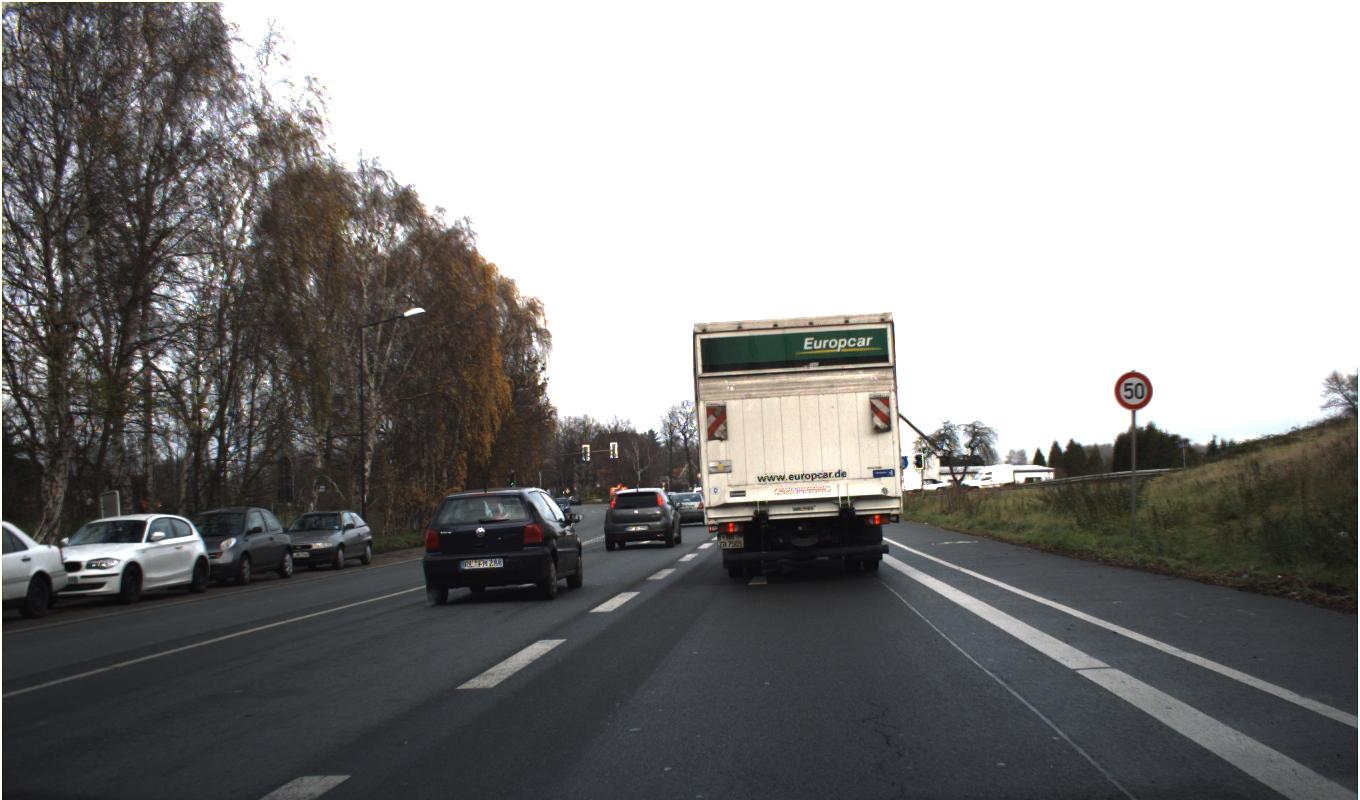prohibitory: (1113, 370, 1154, 411)
